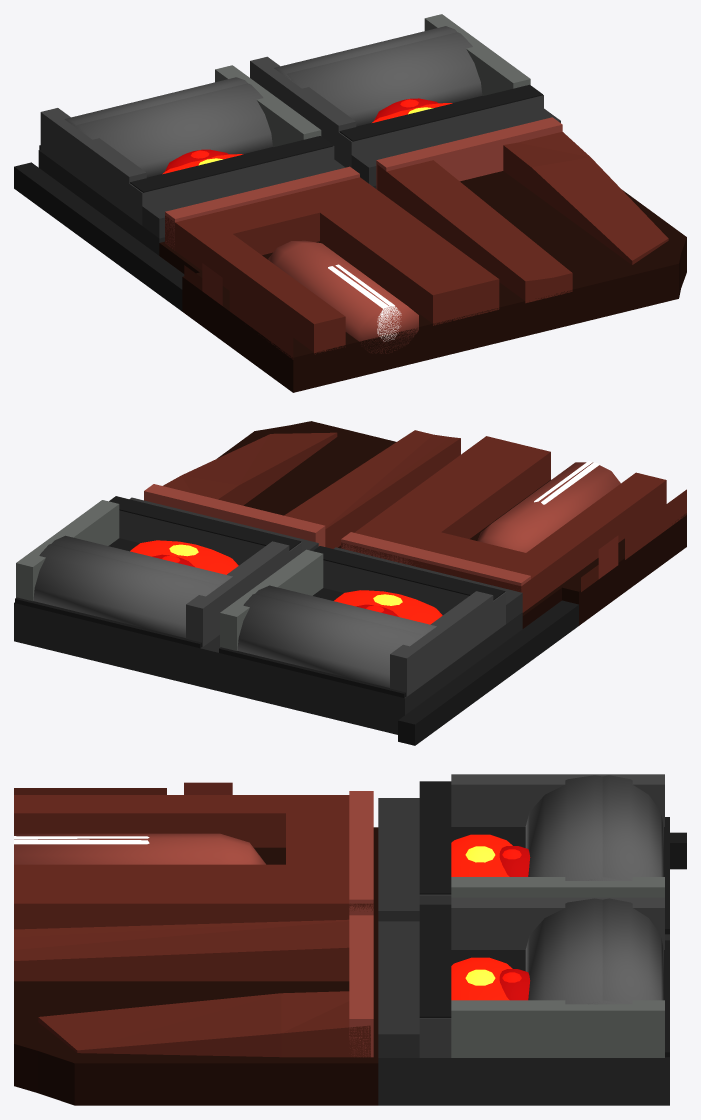
Rendered from newshf-167.glb.
The picture shows the model from 3 angles, top to bottom: view 1: azimuth 30°, elevation 25°; view 2: azimuth 150°, elevation 25°; view 3: azimuth 270°, elevation 25°; orthographic projection. The views are drawn at different scales.
Parts seen in each view (by area): view 1: newshf-167, newshf-167-lamps-bright, newshf-167-lamps-off, newshf-167-lamps-dim; view 2: newshf-167, newshf-167-lamps-off, newshf-167-lamps-bright, newshf-167-lamps-open; view 3: newshf-167, newshf-167-lamps-bright, newshf-167-lamps-off, newshf-167-lamps-dim, newshf-167-lamps-open.
Boxes of the visible parts, x1,y1,x2,y2 form: newshf-167: (14,14,686,392); newshf-167-lamps-bright: (68,32,542,192); newshf-167-lamps-off: (64,26,456,127); newshf-167-lamps-dim: (165,98,437,171); newshf-167: (14,421,686,745); newshf-167-lamps-off: (33,544,428,687); newshf-167-lamps-bright: (51,496,505,642); newshf-167-lamps-open: (15,597,405,697); newshf-167: (14,774,686,1105); newshf-167-lamps-bright: (419,775,623,1017); newshf-167-lamps-off: (587,775,663,1004); newshf-167-lamps-dim: (499,846,530,1000); newshf-167-lamps-open: (664,817,669,1057).
Size of the model in its own units: 2 by 0.38 by 2.31.
